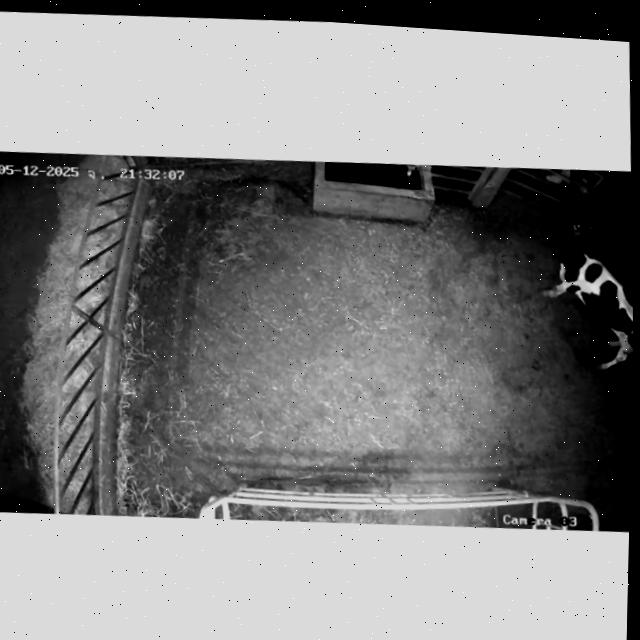stand: (542, 221, 633, 369)
